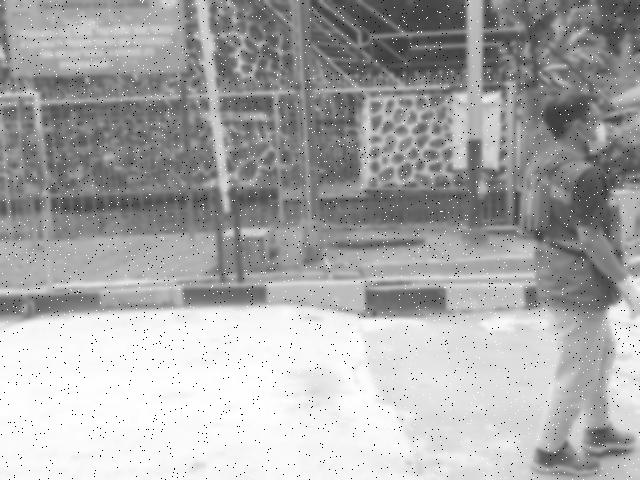glasses: (573, 114, 607, 125)
gloves: (615, 268, 640, 324)
mask: (586, 123, 607, 157)
safety-shoes: (532, 439, 602, 477), (581, 424, 636, 455)
vest: (518, 172, 633, 273)
